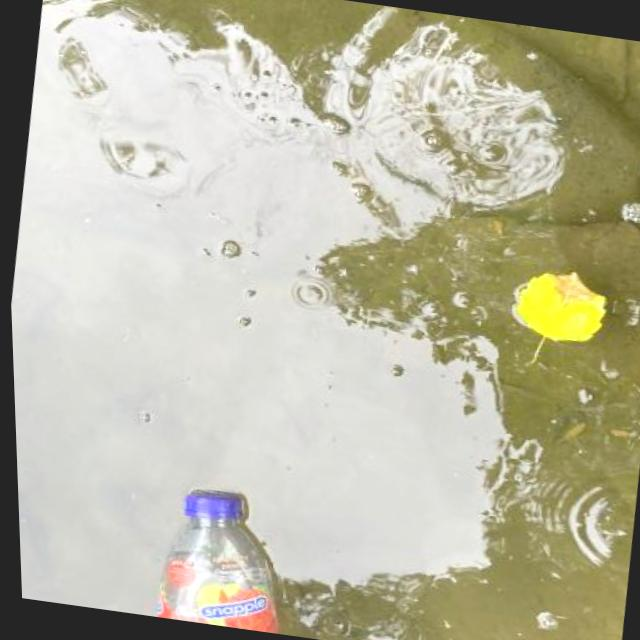Plastic: (134, 470, 308, 636)
